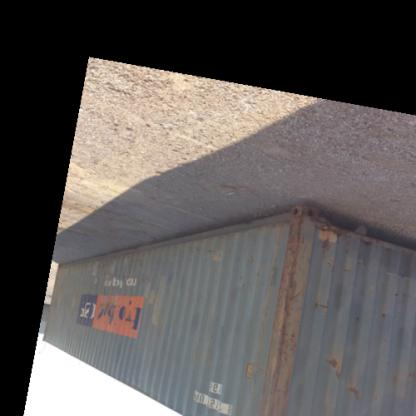Damage: (273, 242, 307, 394), (91, 258, 145, 280), (312, 218, 340, 260), (96, 289, 120, 326), (185, 245, 228, 262), (145, 284, 161, 324), (342, 382, 369, 404), (322, 360, 344, 382), (346, 308, 364, 334), (312, 298, 334, 318), (376, 310, 392, 326)
